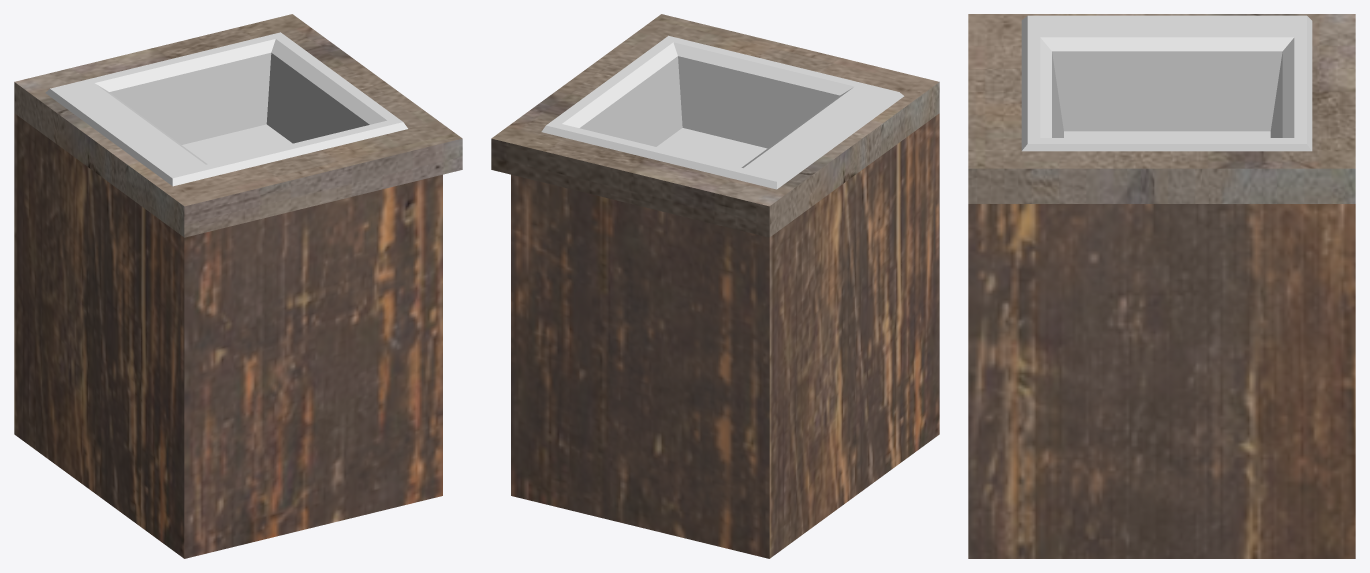
Rendered from mesa5.fbx.
3 renders of one model, left to right at view 1: azimuth 30°, elevation 25°; view 2: azimuth 150°, elevation 25°; view 3: azimuth 270°, elevation 25°, orthographic. The views are drawn at different scales.
Visible parts, largest first — view 1: Base_lavamanos; view 2: Base_lavamanos; view 3: Base_lavamanos.
Boxes of the visible parts, x1,y1,x2,y2 form: Base_lavamanos: (14, 14, 462, 558); Base_lavamanos: (491, 14, 939, 558); Base_lavamanos: (968, 14, 1355, 558).
Size of the model in its own units: 142 by 175 by 150.
